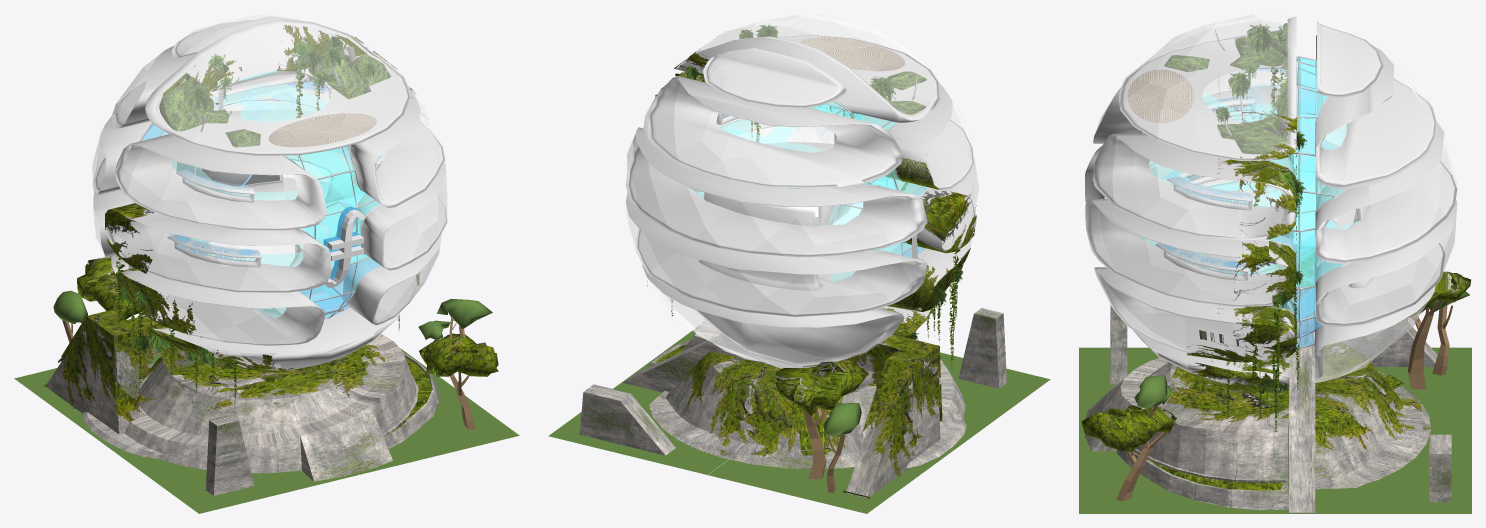
The model's file is Filecoin_test9.glb.
3 views of the same model, side by side, from view 1: azimuth 30°, elevation 25°; view 2: azimuth 150°, elevation 25°; view 3: azimuth 270°, elevation 25° (orthographic). The views are drawn at different scales.
Visible parts, largest first — view 1: North Windows, North Walls, Base, South Walls, PLATFORMS, Main Ramp.001, Main Blue Windows.001, Plane.003, Plane.006, Plane.007, Ramp 1, South Windows (+20 smaller); view 2: South Walls, South Windows, North Walls, North Windows, Base, Plane.002, Main Ramp.001, Plane.004, Cube.014, Ramp 1, Ferns, Plane.005 (+12 smaller); view 3: North Windows, North Walls, South Walls, South Windows, Base, Ferns, Main Blue Windows.001, Plane.005, Plane.002, Main Ramp, Plane.006, PLATFORMS (+26 smaller).
Boxes of the visible parts, <box> form: North Windows: <box>107,20,447,370</box>; North Walls: <box>107,19,447,372</box>; Base: <box>82,334,439,481</box>; South Walls: <box>92,16,351,273</box>; PLATFORMS: <box>170,84,365,318</box>; Main Ramp.001: <box>43,309,201,433</box>; Main Blue Windows.001: <box>133,71,380,318</box>; Plane.003: <box>168,344,385,414</box>; Plane.006: <box>357,368,519,474</box>; Plane.007: <box>107,445,358,513</box>; Ramp 1: <box>45,317,139,434</box>; South Windows: <box>92,14,328,255</box>; South Walls: <box>625,48,927,366</box>; South Windows: <box>626,48,927,368</box>; North Walls: <box>658,35,976,330</box>; North Windows: <box>676,14,979,318</box>; Base: <box>647,320,966,469</box>; Plane.002: <box>675,351,849,458</box>; Main Ramp.001: <box>803,335,942,498</box>; Plane.004: <box>708,445,958,513</box>; Cube.014: <box>579,384,675,455</box>; Ramp 1: <box>846,356,940,498</box>; Ferns: <box>654,36,976,253</box>; Plane.005: <box>548,369,728,474</box>; North Windows: <box>1085,14,1296,367</box>; North Walls: <box>1085,16,1296,389</box>; South Walls: <box>1315,21,1457,382</box>; South Windows: <box>1315,21,1457,383</box>; Base: <box>1085,346,1430,510</box>; Ferns: <box>1187,110,1297,393</box>; Main Blue Windows.001: <box>1140,57,1345,347</box>; Plane.005: <box>1275,431,1471,513</box>; Plane.002: <box>1278,342,1433,469</box>; Main Ramp: <box>1289,267,1315,513</box>; Plane.006: <box>1079,431,1275,513</box>; PLATFORMS: <box>1140,91,1358,319</box>.
Size of what is drawn, in the model's own units: 3.05 by 3.46 by 3.03.
25 materials, 21 textured.
